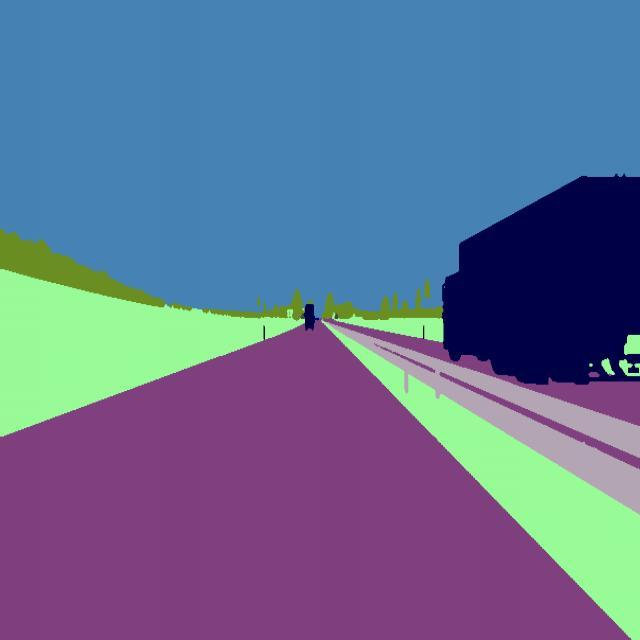safe: (441, 170, 640, 394), (304, 301, 315, 333)
